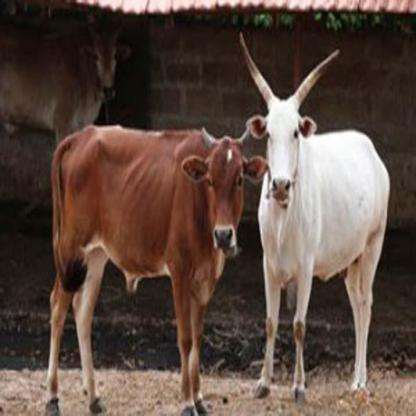cow: (47, 127, 265, 416), (247, 104, 388, 404)
